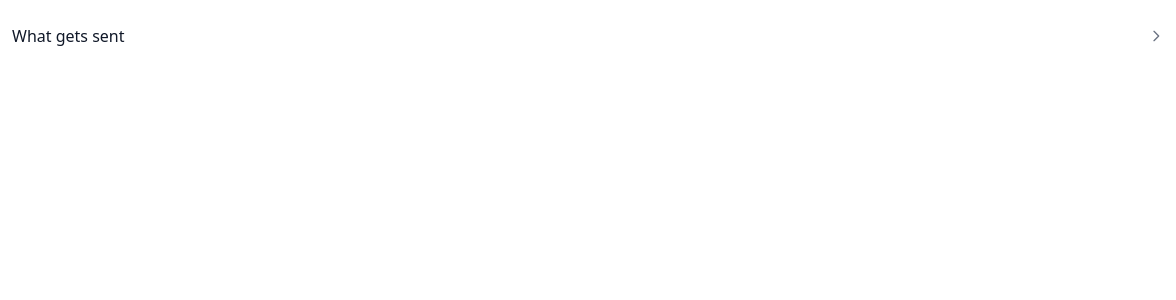
Scenario: what gets sent › says what it is for, and what turning it off costs
What coordinates should you click on to do the following:
click the button
I would click on:
 (68, 36)
Its box is [12, 12, 1164, 60].
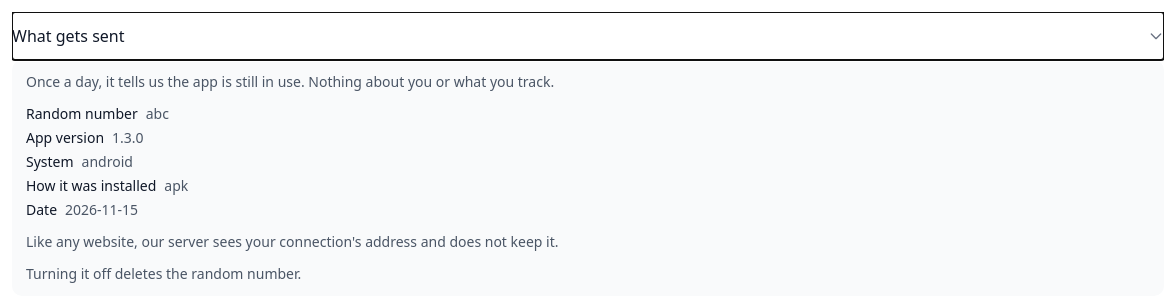
Check: the text "Once a day, it tells us the app is still in use. Nothing about you or what you track." is shown, box [26, 72, 554, 91]
Check: the text "Turning it off deletes the random number." is shown, box [26, 264, 301, 283]
